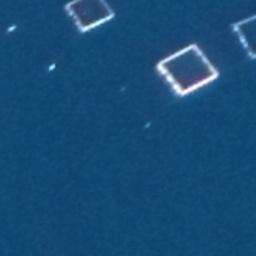square_solid: (151, 39, 223, 101), (61, 1, 121, 36), (229, 9, 256, 64)
